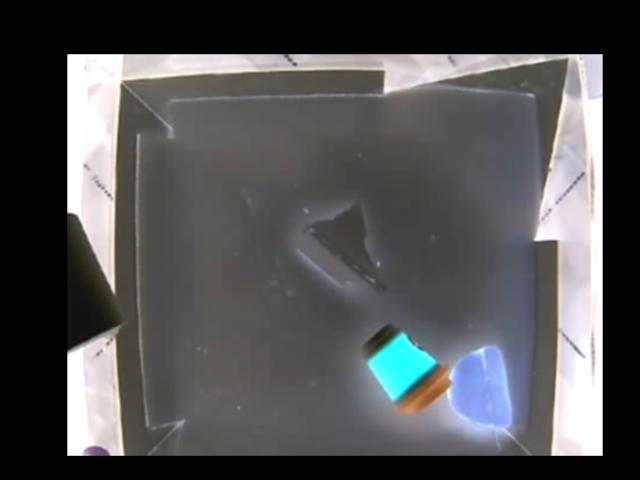China: (297, 203, 381, 293)
Cup: (363, 323, 454, 414)
Potato: (447, 347, 512, 431)
